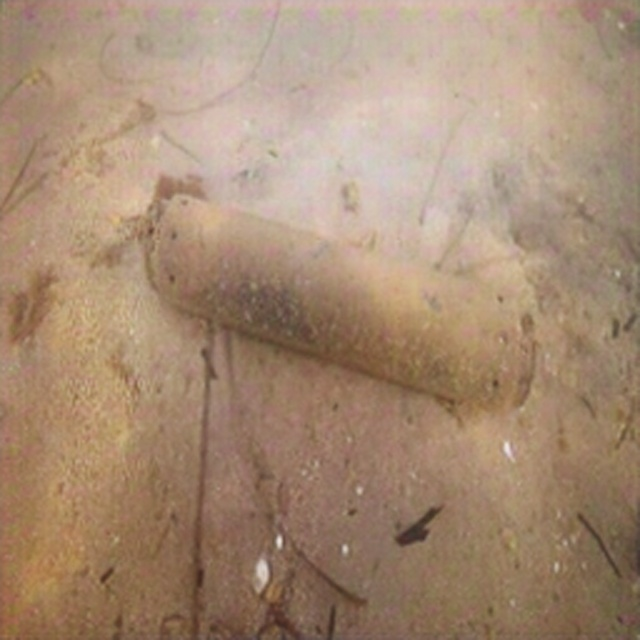mine: (142, 191, 539, 411)
